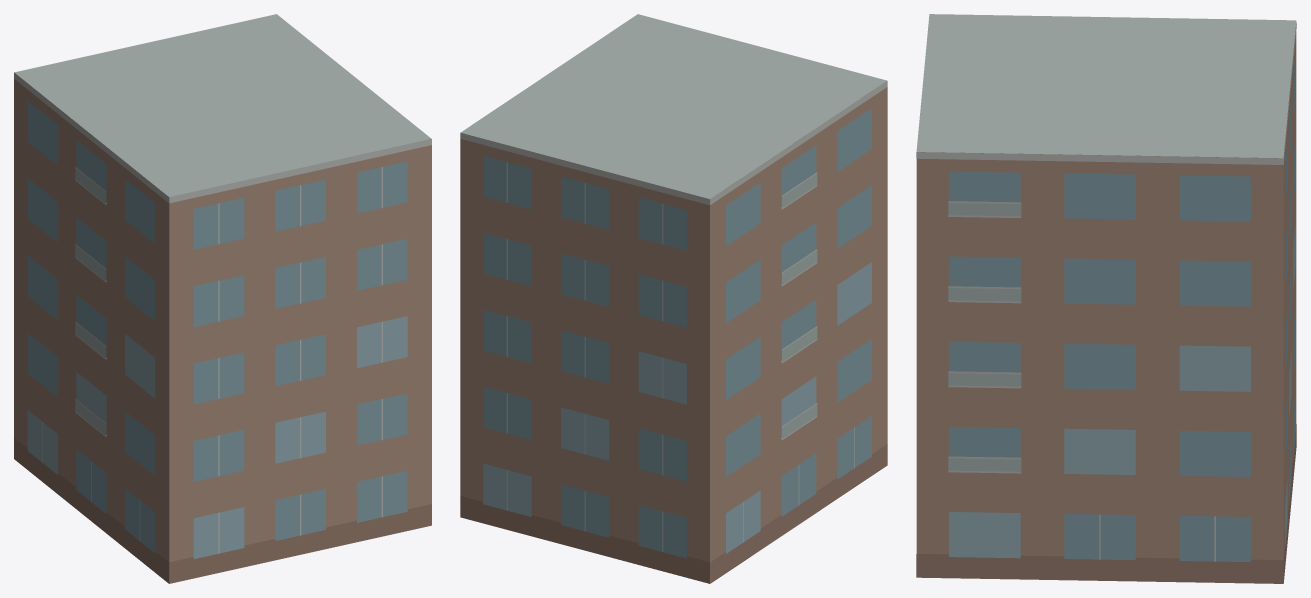
The model's file is survey-upis-32565430.glb.
3 renders of one model, left to right at view 1: azimuth 30°, elevation 25°; view 2: azimuth 150°, elevation 25°; view 3: azimuth 270°, elevation 25°, orthographic. The views are drawn at different scales.
Parts seen in each view (by area): view 1: survey-upis-32565430.tmp; view 2: survey-upis-32565430.tmp; view 3: survey-upis-32565430.tmp.
Boxes of the visible parts, left/top/right/bottom form: survey-upis-32565430.tmp: left=14, top=14, right=431, bottom=583; survey-upis-32565430.tmp: left=460, top=14, right=887, bottom=583; survey-upis-32565430.tmp: left=916, top=14, right=1296, bottom=583.
Bounding box in the file's own units: 11.09 × 15.25 × 12.35.
